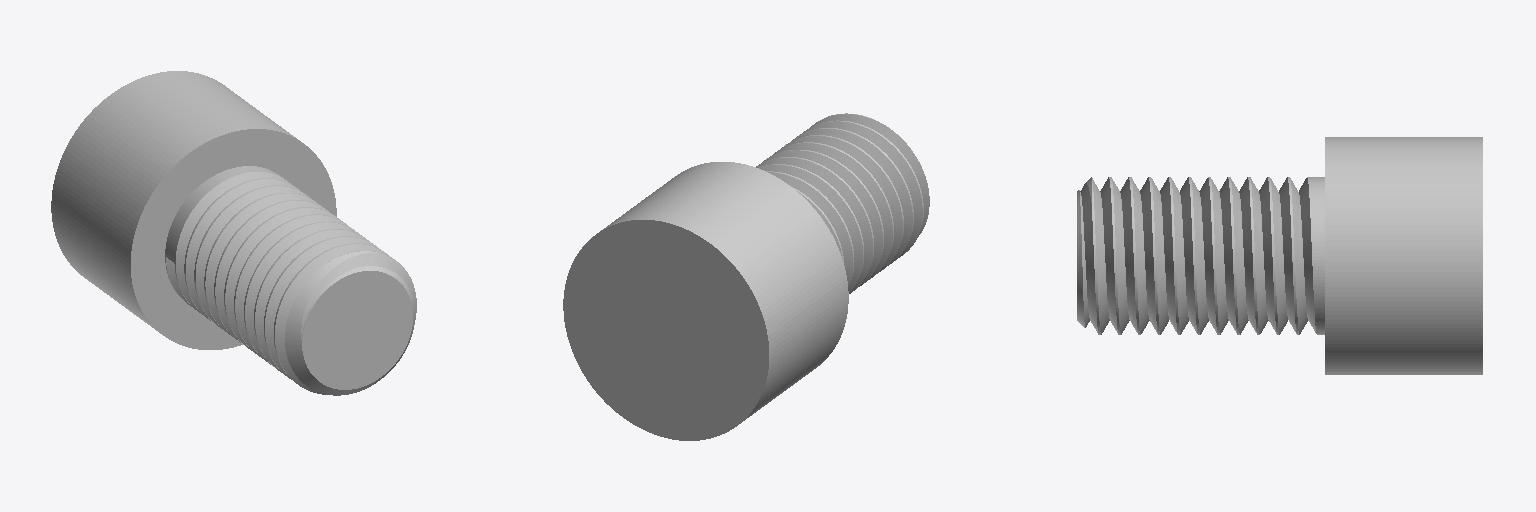
The model's file is factory_bolt_m16_tight.obj.
3 renders of one model, left to right at view 1: azimuth 30°, elevation 25°; view 2: azimuth 150°, elevation 25°; view 3: azimuth 270°, elevation 25°, orthographic.
Visible parts, largest first — view 1: mesh1, mesh4, mesh2, mesh8, mesh3, mesh7; view 2: mesh0, mesh1, mesh5, mesh3; view 3: mesh1, mesh4, mesh5, mesh3, mesh7.
Part boxes in pixels (left/top/right/bottom): mesh1: left=51, top=71, right=299, bottom=333; mesh4: left=166, top=172, right=416, bottom=394; mesh2: left=131, top=129, right=336, bottom=349; mesh8: left=302, top=271, right=412, bottom=389; mesh3: left=165, top=166, right=391, bottom=373; mesh7: left=285, top=251, right=414, bottom=395; mesh0: left=563, top=220, right=768, bottom=440; mesh1: left=601, top=162, right=848, bottom=426; mesh5: left=756, top=114, right=929, bottom=293; mesh3: left=758, top=113, right=923, bottom=293; mesh1: left=1325, top=137, right=1482, bottom=374; mesh4: left=1080, top=177, right=1315, bottom=334; mesh5: left=1079, top=177, right=1307, bottom=334; mesh3: left=1092, top=177, right=1324, bottom=334; mesh7: left=1077, top=177, right=1091, bottom=327.
Size of the model in its own units: 0.024 by 0.024 by 0.041.